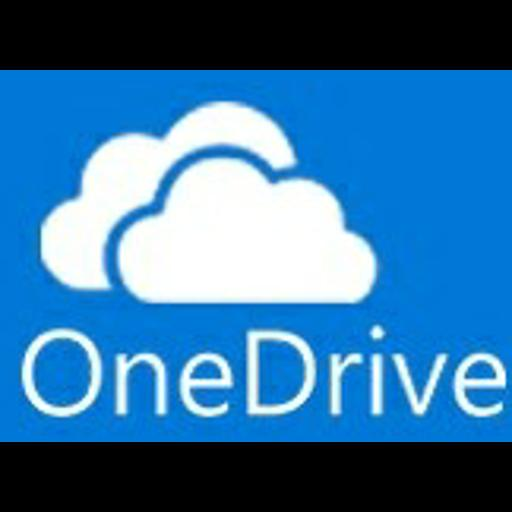Outlook: (0, 70, 512, 442)
